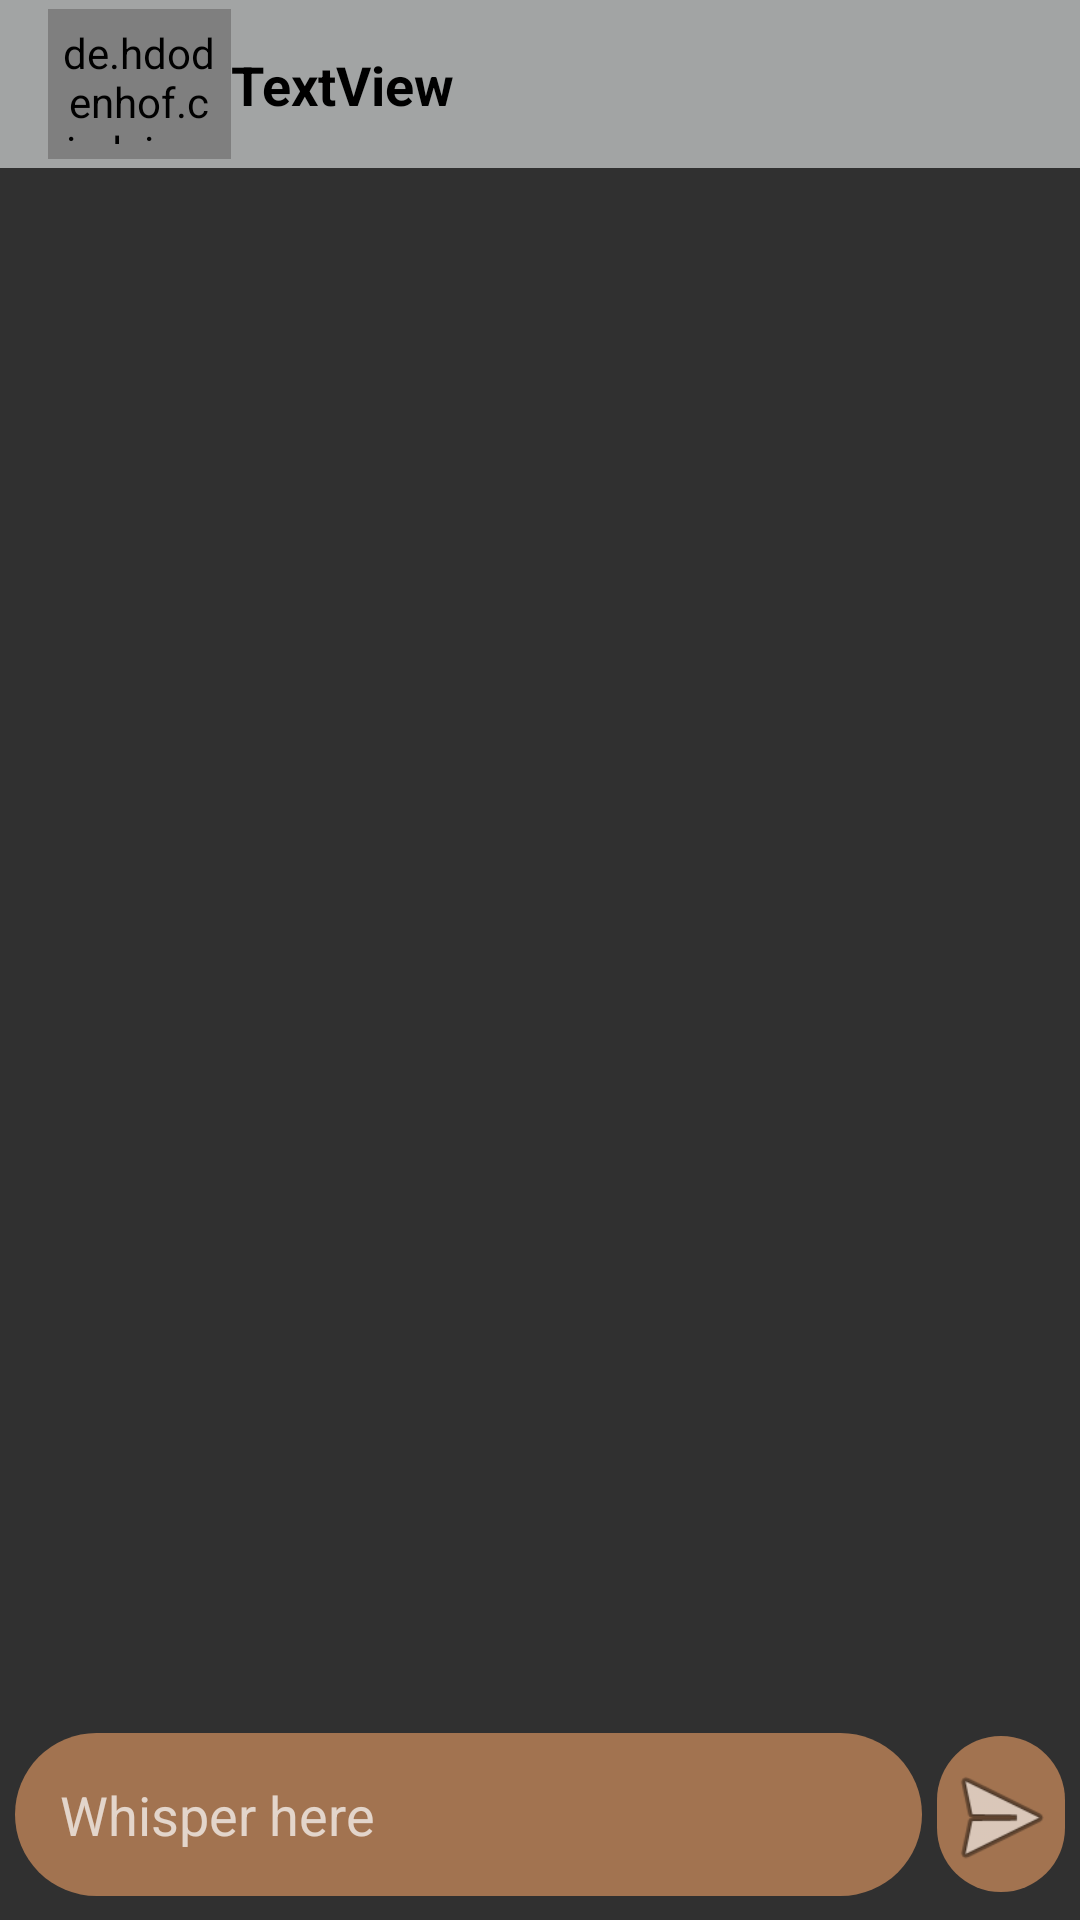

Locate icon controls on the screen. Image size 1080×1920, boxes as bbox(x1, y1, x2, y2).
send: bbox(937, 1736, 1065, 1892)
